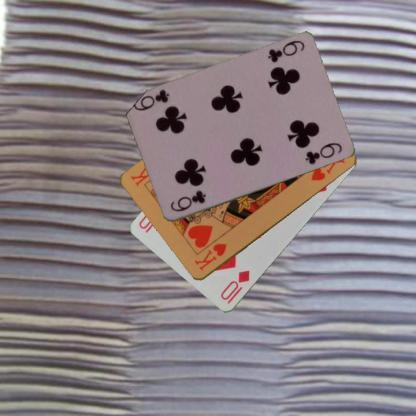10d: (218, 268, 251, 306)
6c: (264, 38, 306, 64), (168, 188, 208, 214)
Kh: (191, 241, 229, 273)
